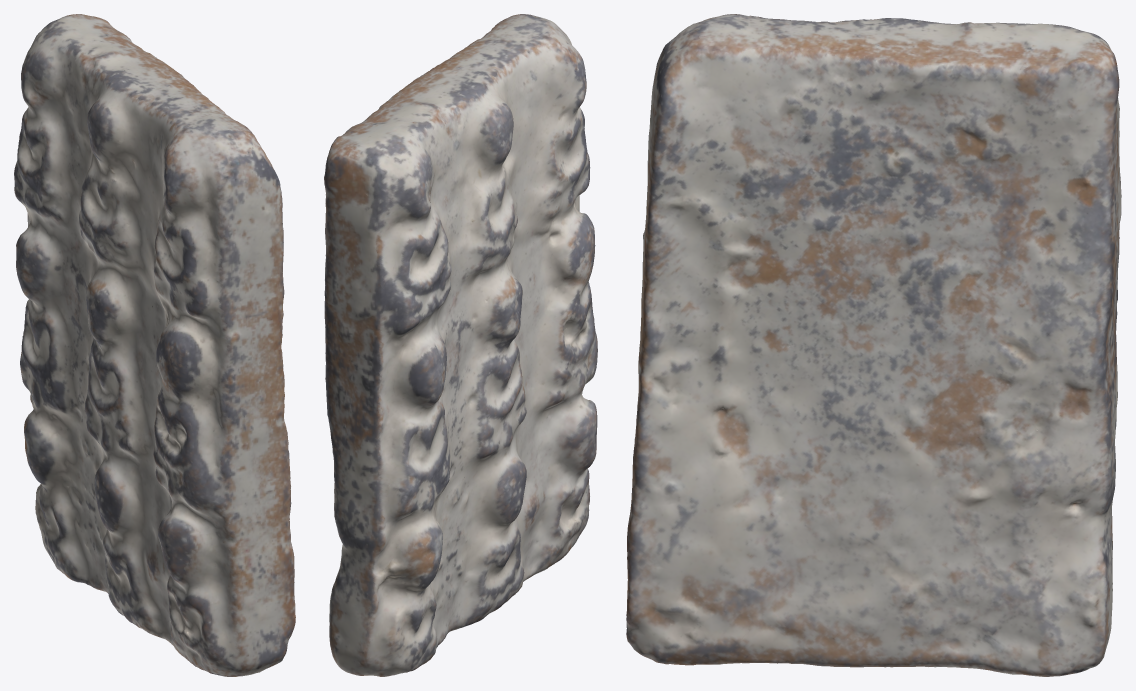
The model's file is pra1_Model_4_0000000.glb.
The picture shows the model from 3 angles, left to right: view 1: azimuth 30°, elevation 25°; view 2: azimuth 150°, elevation 25°; view 3: azimuth 270°, elevation 25°; orthographic projection. The views are drawn at different scales.
Parts seen in each view (by area): view 1: Mesh_0_Part_0; view 2: Mesh_0_Part_0; view 3: Mesh_0_Part_0.
Part boxes in pixels (box(x1,y1,x2,y2)): Mesh_0_Part_0: box(14, 14, 295, 676); Mesh_0_Part_0: box(324, 14, 597, 676); Mesh_0_Part_0: box(626, 14, 1121, 676).
Size of the model in its own units: 4.71 by 23.35 by 16.42.
Materials: 1 (1 with a texture image).
